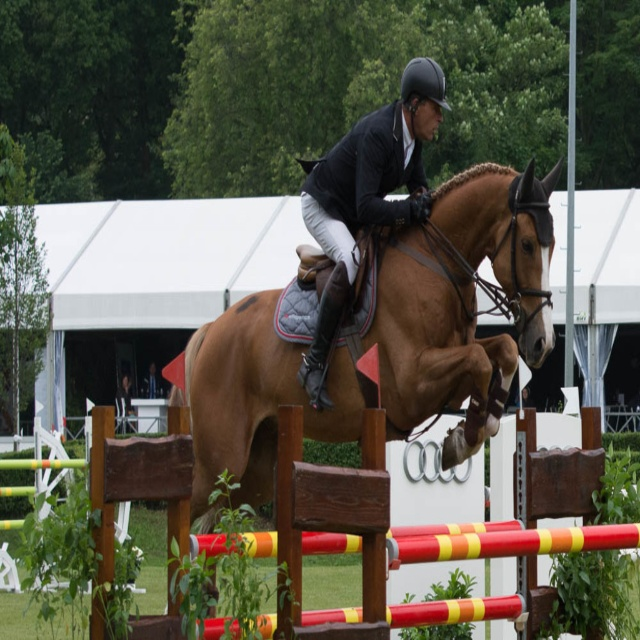Horse: (167, 152, 566, 536)
